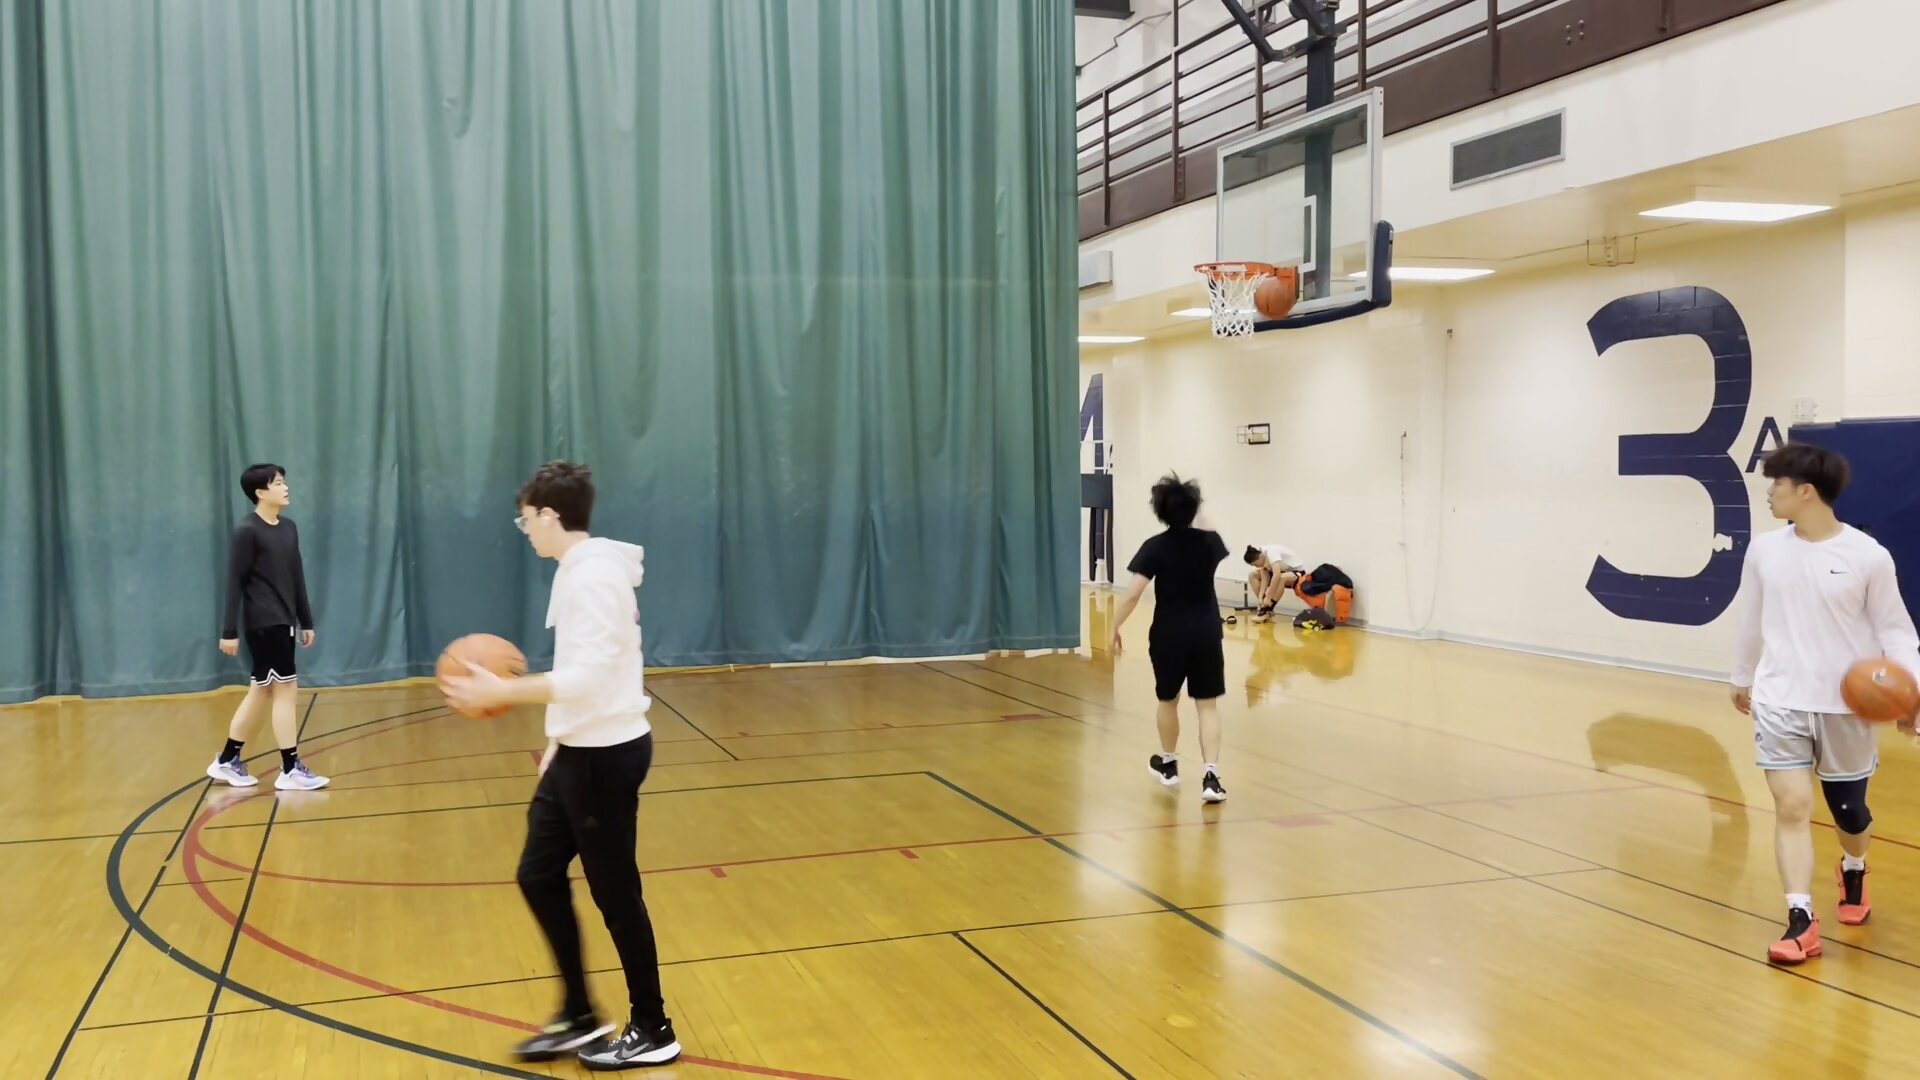ball: (438, 636, 520, 721), (1839, 658, 1920, 736), (1253, 281, 1293, 322)
net: (1203, 311, 1263, 344)
player: (484, 451, 701, 1074), (1733, 444, 1920, 978), (210, 460, 336, 796), (1121, 474, 1233, 810), (1240, 544, 1310, 630)
rim: (1187, 258, 1282, 282)
